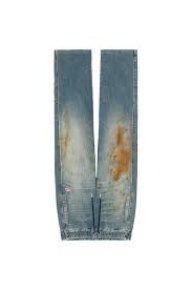earth: (111, 126, 131, 181)
